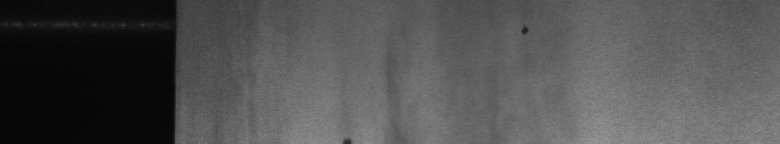fi: (517, 20, 532, 40)
